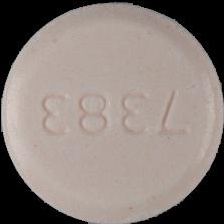21695-720: (0, 0, 224, 224)
